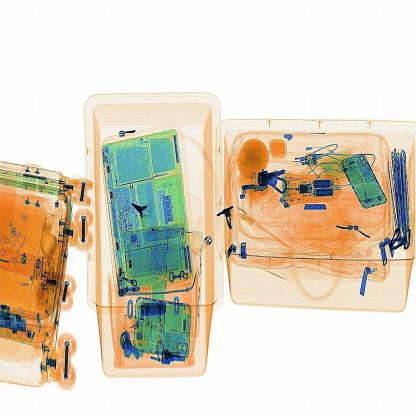gun: (124, 186, 164, 229)
